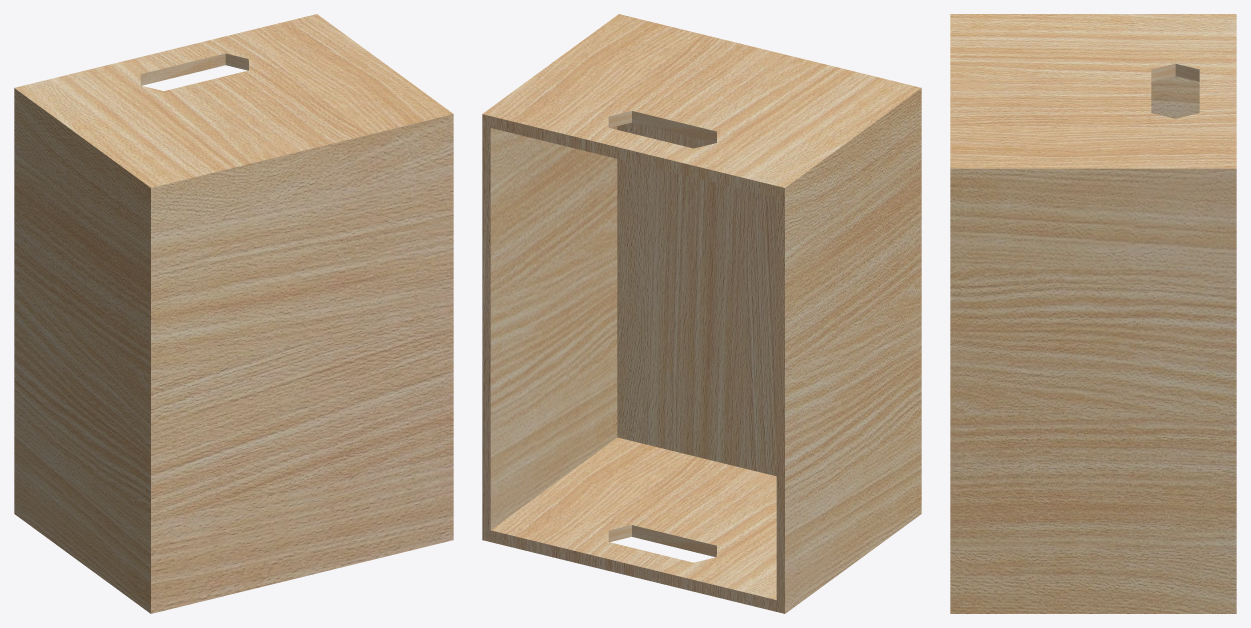
Rendered from Crate.fbx.
The picture shows the model from 3 angles, left to right: view 1: azimuth 30°, elevation 25°; view 2: azimuth 150°, elevation 25°; view 3: azimuth 270°, elevation 25°; orthographic projection. The views are drawn at different scales.
Parts seen in each view (by area): view 1: Crate; view 2: Crate; view 3: Crate.
Boxes of the visible parts, bbox=[...] form: Crate: bbox=[14, 14, 453, 613]; Crate: bbox=[482, 14, 921, 613]; Crate: bbox=[950, 14, 1236, 613].
Size of the model in its own units: 21.75 by 29.24 by 17.02.
